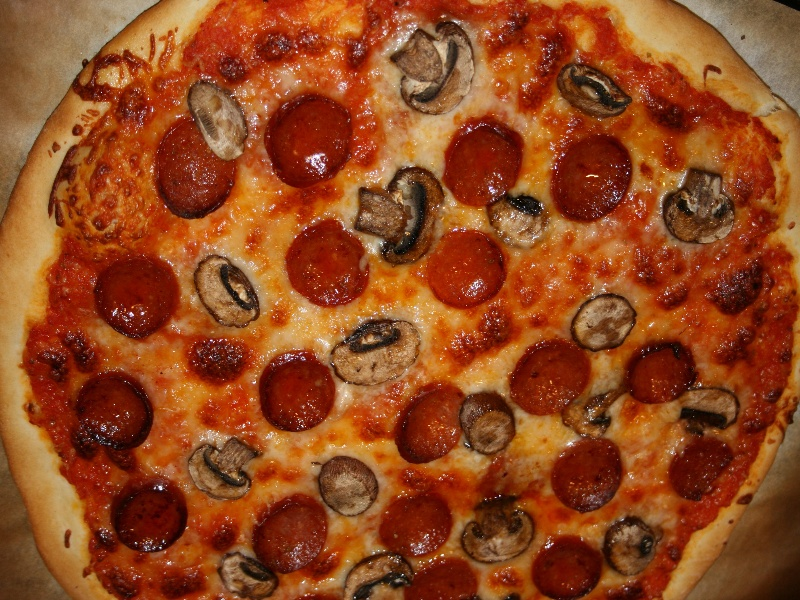champignon: (378, 18, 484, 119), (354, 165, 447, 270), (328, 312, 427, 387), (658, 168, 744, 250), (189, 251, 276, 332), (548, 53, 640, 129), (457, 493, 536, 566), (183, 438, 265, 500), (335, 551, 425, 600), (214, 546, 282, 600), (679, 380, 747, 434)
